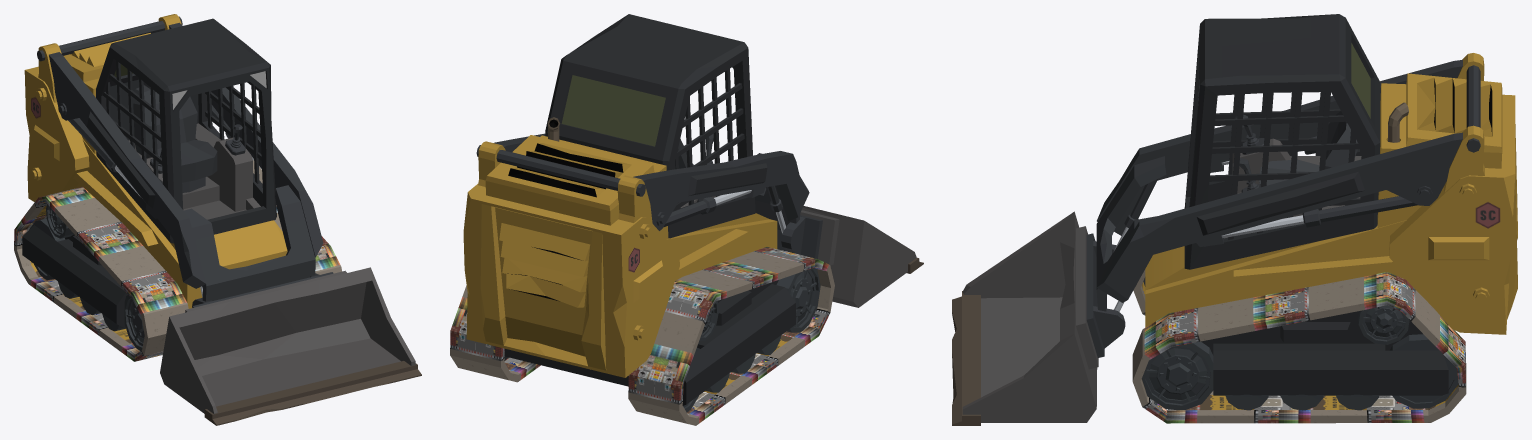
File: SM_Veh_Mini_Loader_02.glb
3 views of the same model, side by side, from view 1: azimuth 30°, elevation 25°; view 2: azimuth 150°, elevation 25°; view 3: azimuth 270°, elevation 25° (orthographic). The views are drawn at different scales.
Parts seen in each view (by area): view 1: SM_Veh_Mini_Loader_02, SM_Veh_Mini_Loader_01_Bucket, SM_Veh_Mini_Loader_02_Arm, SM_Veh_Mini_Loader_02_Track_r, SM_Veh_Mini_Loader_02_Track_l, SM_Veh_Mini_Loader_02_Track_Wheel_fr, SM_Veh_Mini_Loader_02_Track_Wheel_mr; view 2: SM_Veh_Mini_Loader_02, SM_Veh_Mini_Loader_02_Track_r, SM_Veh_Mini_Loader_02_Arm, SM_Veh_Mini_Loader_01_Bucket, SM_Veh_Mini_Loader_02_Track_l, SM_Veh_Mini_Loader_02_Track_Wheel_fr; view 3: SM_Veh_Mini_Loader_02, SM_Veh_Mini_Loader_01_Bucket, SM_Veh_Mini_Loader_02_Arm, SM_Veh_Mini_Loader_02_Track_l, SM_Veh_Mini_Loader_02_Track_Wheel_fl, SM_Veh_Mini_Loader_02_Track_Wheel_ml, SM_Veh_Mini_Loader_02_Track_Wheel_rl.
Part boxes in pixels (x1,y1,x2,y2): SM_Veh_Mini_Loader_02: (22,14,287,331); SM_Veh_Mini_Loader_01_Bucket: (160,267,421,425); SM_Veh_Mini_Loader_02_Arm: (49,22,323,301); SM_Veh_Mini_Loader_02_Track_r: (14,186,188,361); SM_Veh_Mini_Loader_02_Track_l: (253,160,341,274); SM_Veh_Mini_Loader_02_Track_Wheel_fr: (124,295,144,350); SM_Veh_Mini_Loader_02_Track_Wheel_mr: (46,204,73,238); SM_Veh_Mini_Loader_02: (463,14,795,405); SM_Veh_Mini_Loader_02_Track_r: (628,247,834,425); SM_Veh_Mini_Loader_02_Arm: (494,133,809,233); SM_Veh_Mini_Loader_01_Bucket: (777,206,923,307); SM_Veh_Mini_Loader_02_Track_l: (450,285,540,382); SM_Veh_Mini_Loader_02_Track_Wheel_fr: (776,268,820,332); SM_Veh_Mini_Loader_02: (1145,14,1517,410); SM_Veh_Mini_Loader_01_Bucket: (952,211,1125,425); SM_Veh_Mini_Loader_02_Arm: (1096,60,1462,311); SM_Veh_Mini_Loader_02_Track_l: (1132,272,1466,423); SM_Veh_Mini_Loader_02_Track_Wheel_fl: (1141,341,1213,410); SM_Veh_Mini_Loader_02_Track_Wheel_ml: (1358,305,1409,344); SM_Veh_Mini_Loader_02_Track_Wheel_rl: (1389,334,1458,408).
Bounding box in the file's own units: 2.26 × 2.69 × 4.33.
Materials: 1 (1 with a texture image).
